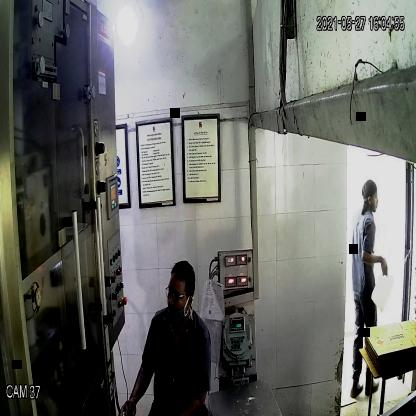goggles: (164, 284, 192, 304)
